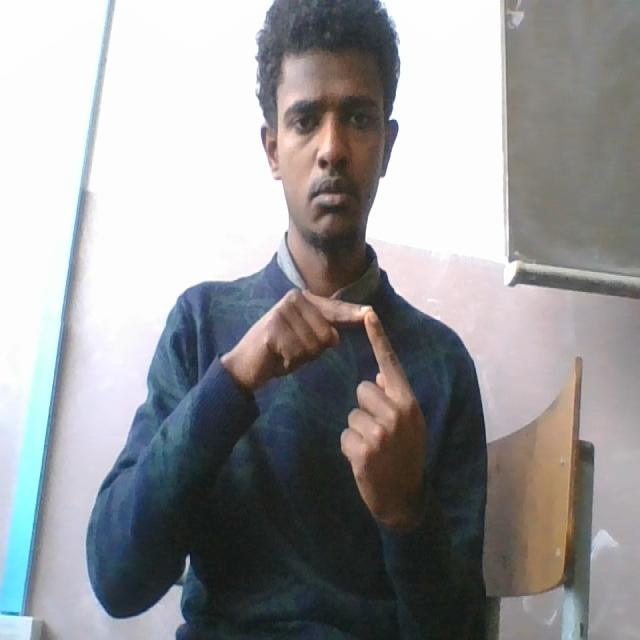wede: (234, 276, 436, 534)
